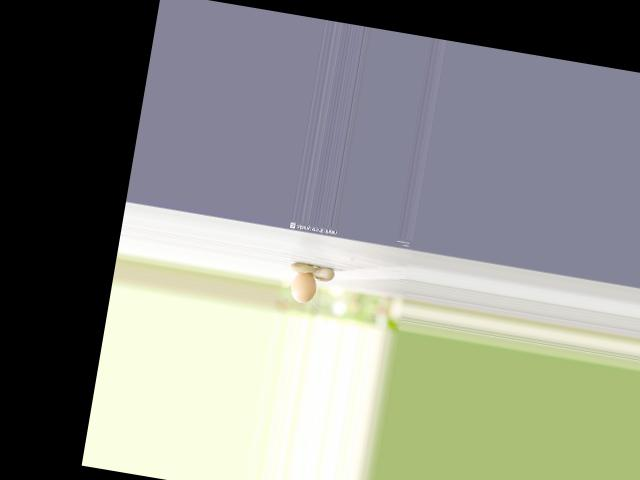egg: (289, 270, 319, 304)
